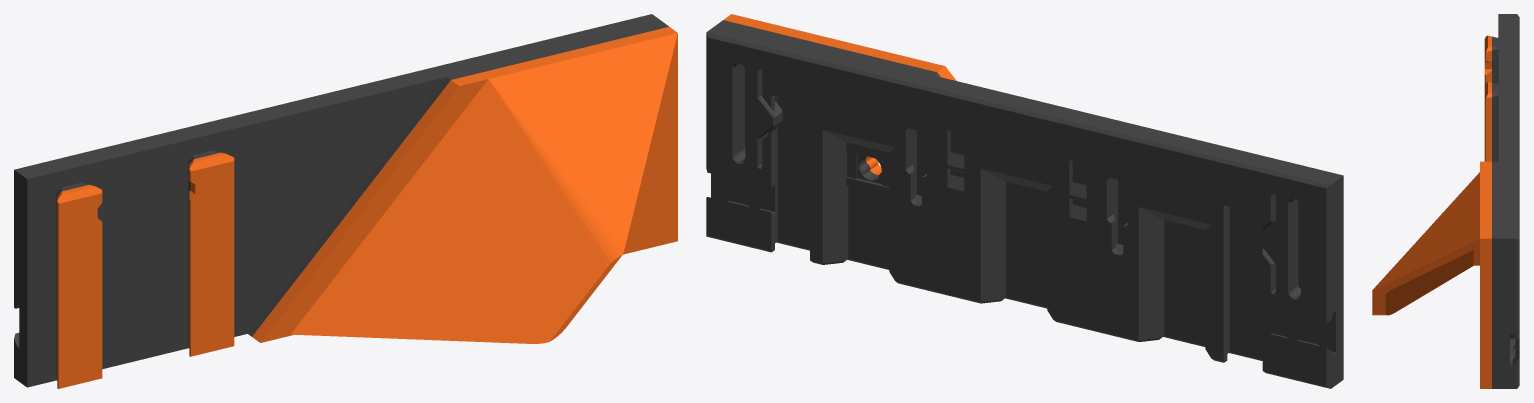
Rendered from Faceplate_EdgeLabel_1W-05H.lib.glb.
The picture shows the model from 3 angles, left to right: view 1: azimuth 30°, elevation 25°; view 2: azimuth 150°, elevation 25°; view 3: azimuth 270°, elevation 25°; orthographic projection. The views are drawn at different scales.
Visible parts, largest first — view 1: Faceplate_EdgeLabel_1W-05H; view 2: Faceplate_EdgeLabel_1W-05H; view 3: Faceplate_EdgeLabel_1W-05H.
Part boxes in pixels (x1,y1,x2,y2): Faceplate_EdgeLabel_1W-05H: (14, 14, 677, 388); Faceplate_EdgeLabel_1W-05H: (706, 14, 1343, 388); Faceplate_EdgeLabel_1W-05H: (1372, 14, 1519, 388).
Size of the model in its own units: 87 by 27.15 by 24.1.
